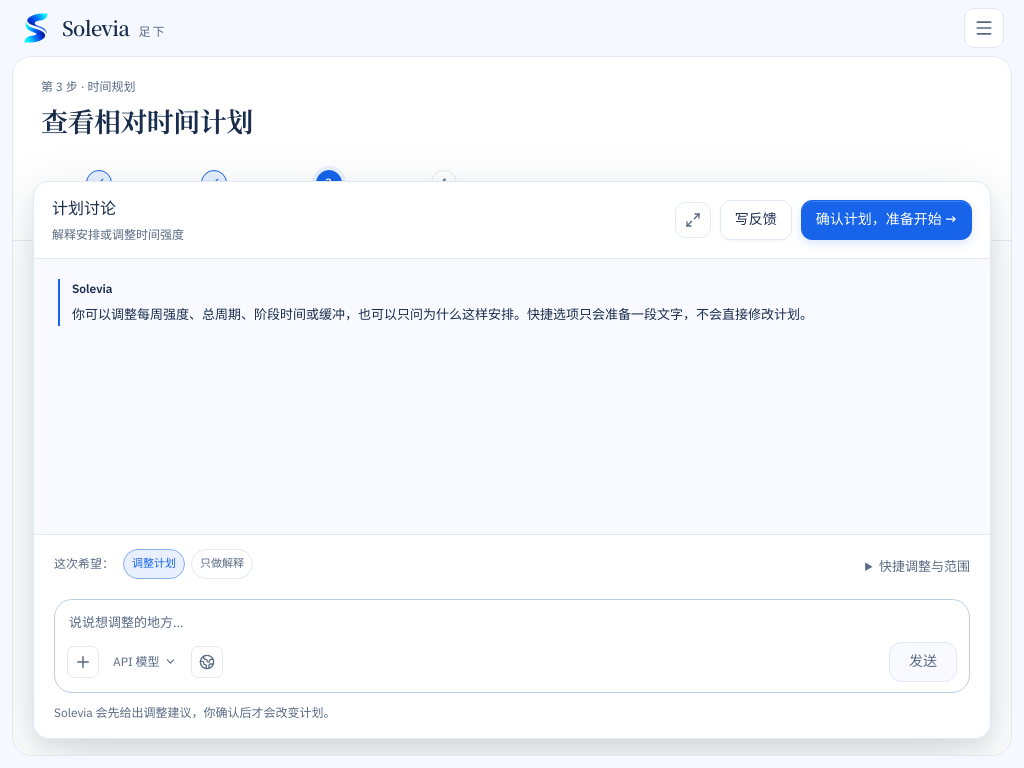
Test: does not repeat REVISE or publish a plan when discussion is closed before its response and opened again
Type "想了解降低强度会怎样安排" into the text box named "希望怎样调整？" at (512, 623), box top-left (67, 610), bottom-right (957, 636)
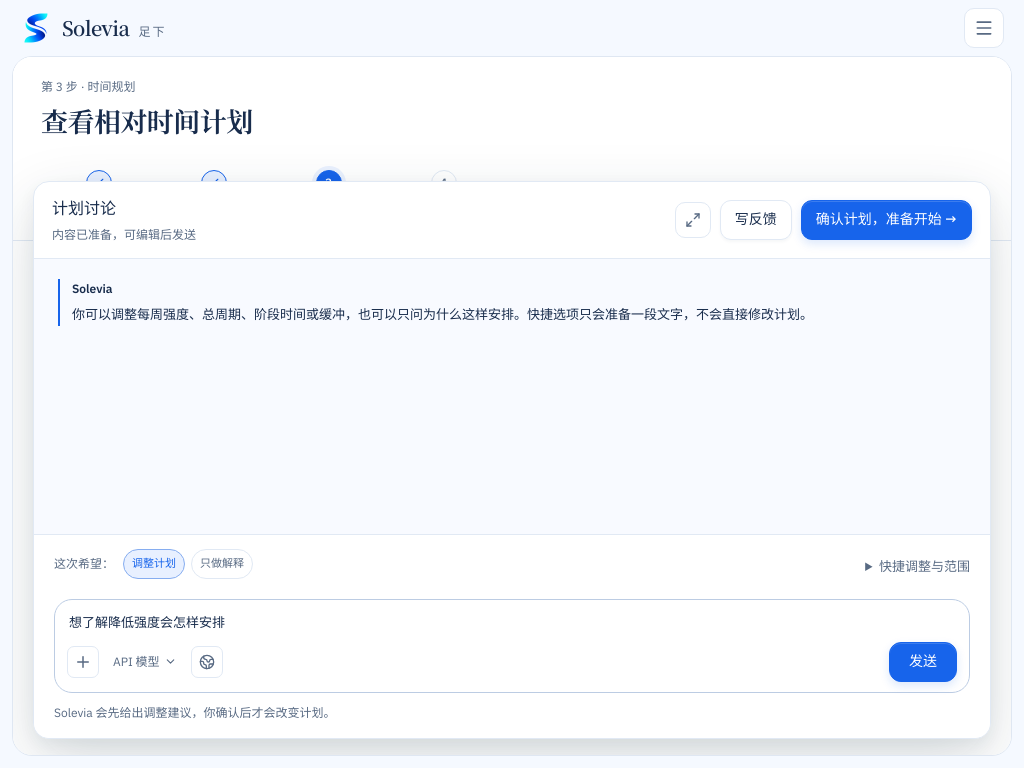
Click the button "发送" at (923, 662), box top-left (889, 642), bottom-right (957, 682)
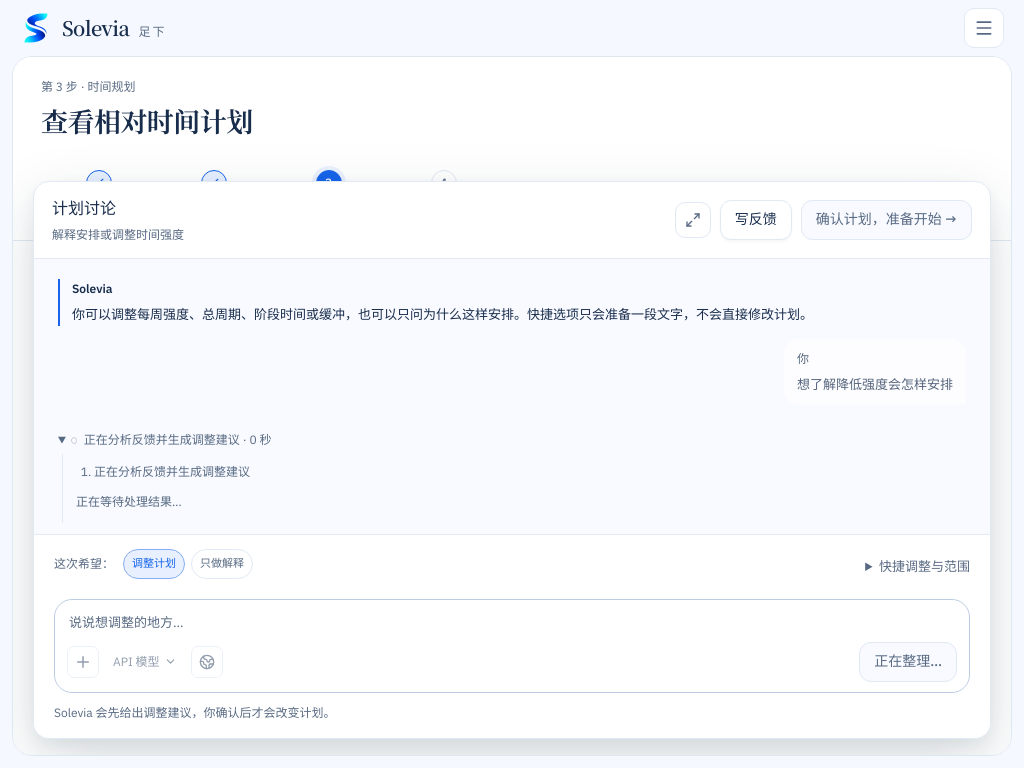
Click the button "计划讨论 解释安排或调整时间强度" at (118, 220), box top-left (52, 196), bottom-right (184, 244)
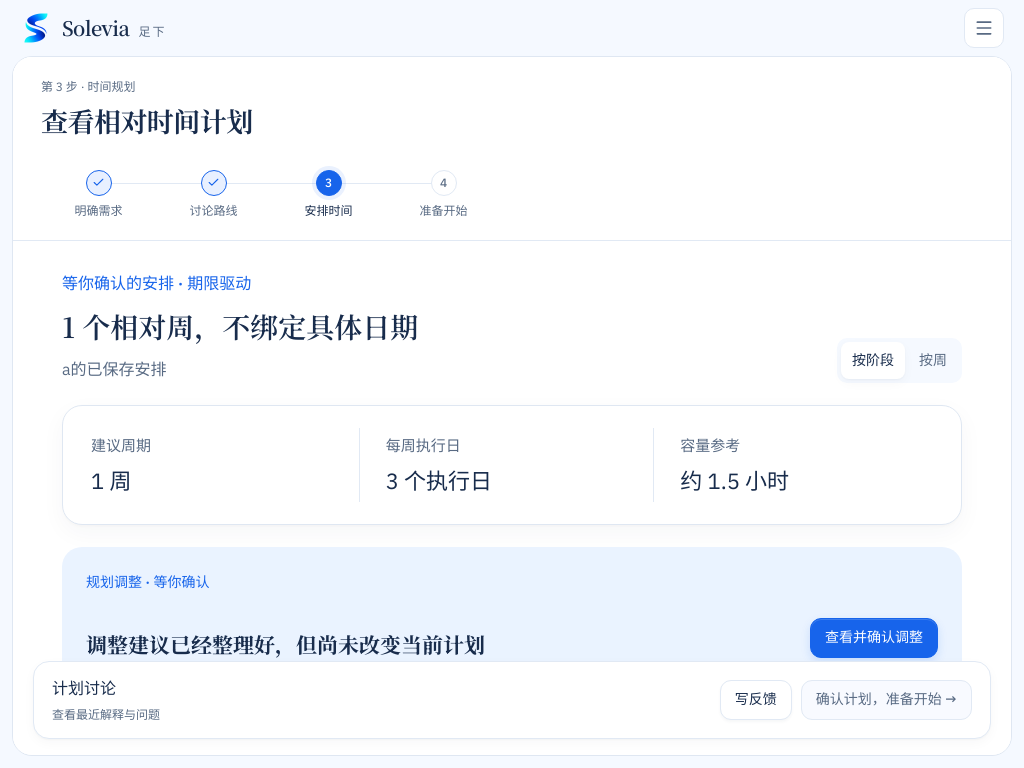
Check: the field labelled "希望怎样调整？" is not shown
Click the button "计划讨论 查看最近解释与问题" at (106, 700), box top-left (52, 676), bottom-right (160, 724)
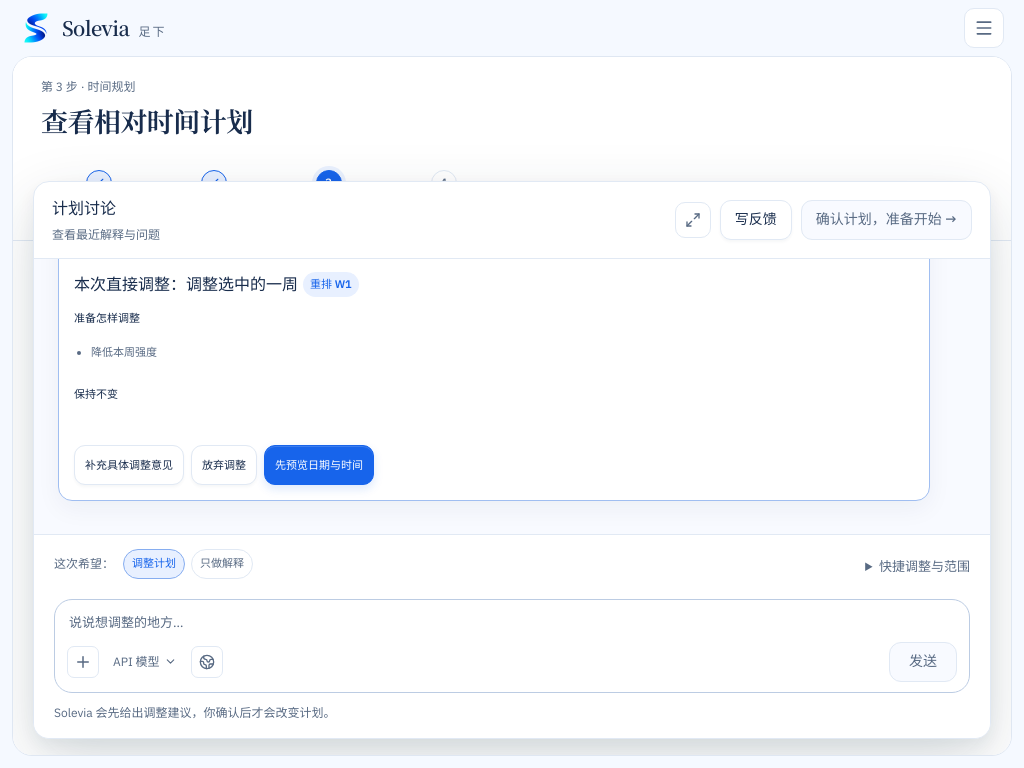
Click the button "计划讨论 查看最近解释与问题" at (106, 220), box top-left (52, 196), bottom-right (160, 244)
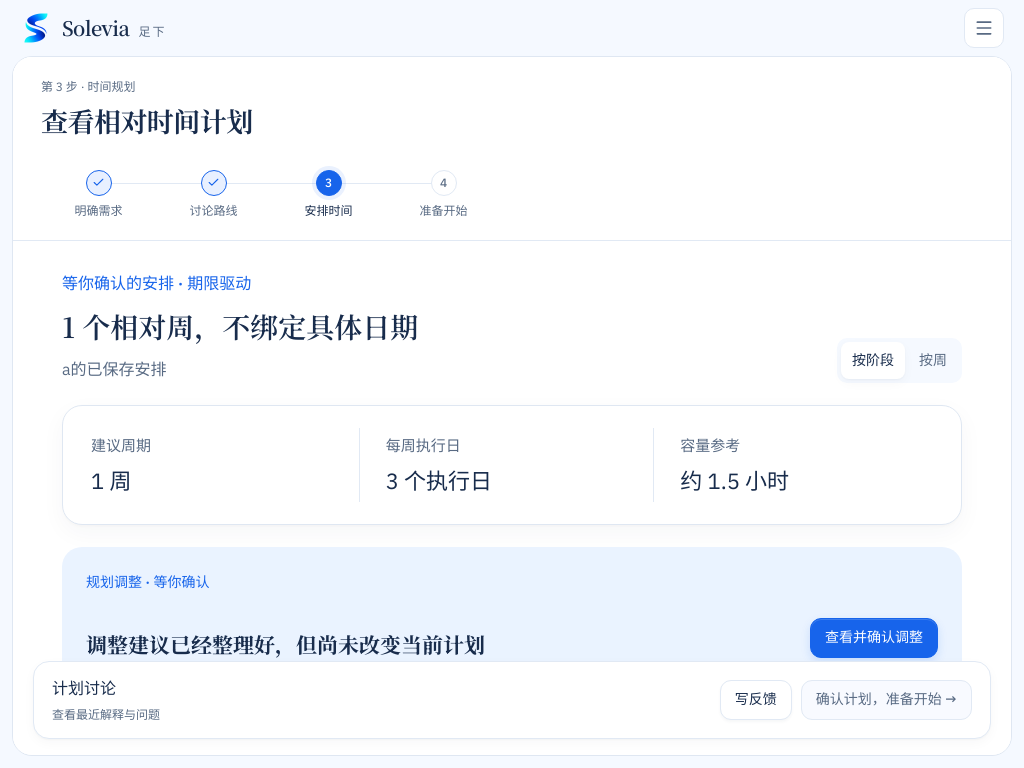
Click the button "计划讨论 查看最近解释与问题" at (106, 700), box top-left (52, 676), bottom-right (160, 724)
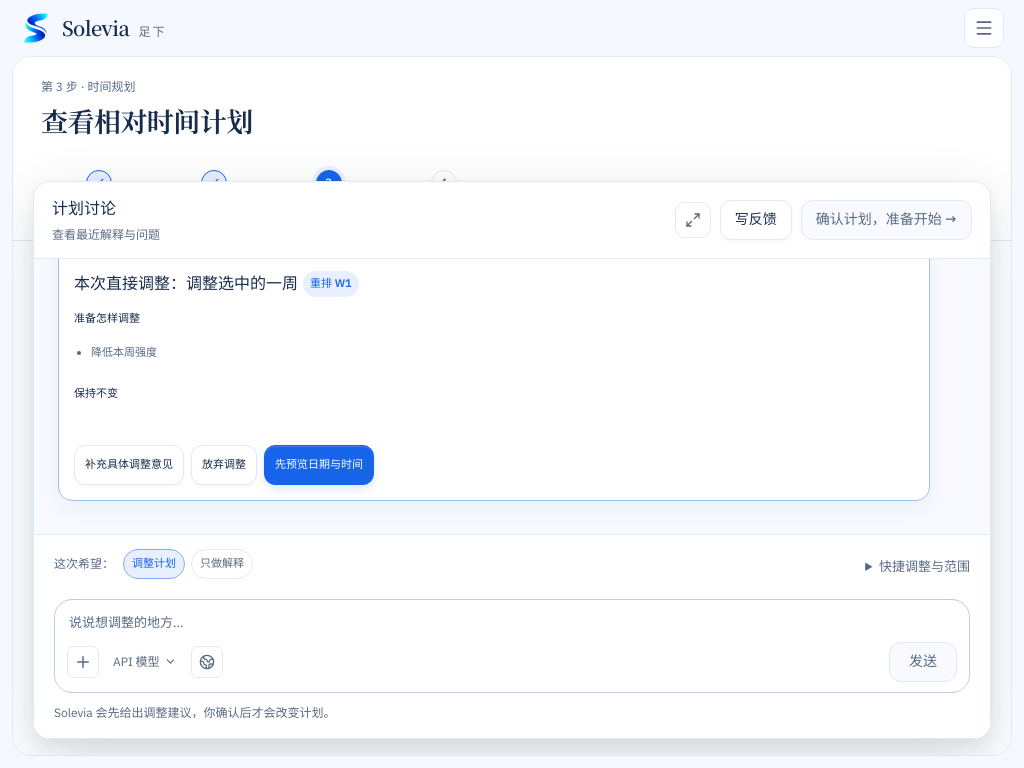
Check: the text "a的已保存安排" is shown, box top-left (62, 359), bottom-right (166, 379)
Check: the button "先预览日期与时间" is shown, box top-left (264, 445), bottom-right (374, 485)
Check: the list item "降低本周强度" is shown, box top-left (91, 344), bottom-right (157, 358)
